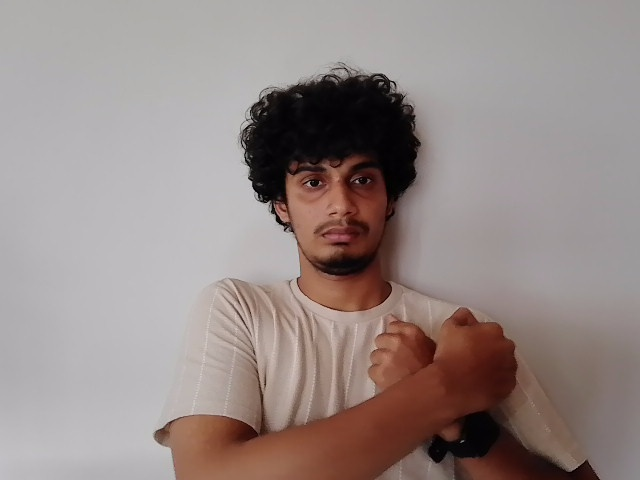love: (360, 306, 522, 429)
